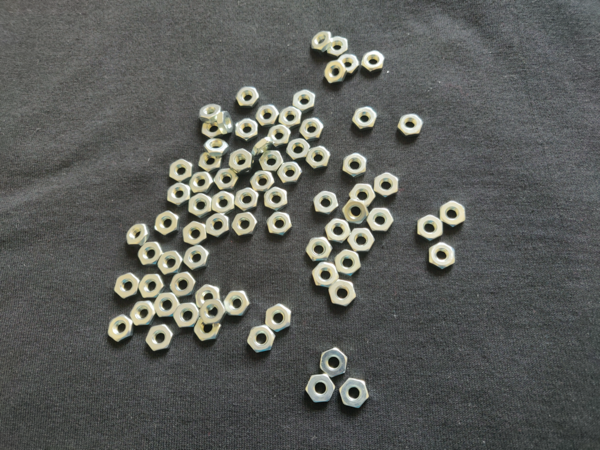nut: (340, 378, 370, 409), (306, 374, 335, 403), (321, 348, 348, 378), (146, 324, 174, 352), (248, 325, 276, 353), (312, 262, 340, 289), (329, 280, 357, 307), (194, 315, 222, 342), (266, 304, 292, 332), (440, 200, 466, 227), (430, 242, 456, 269), (342, 199, 369, 225), (335, 250, 362, 276), (170, 272, 197, 298), (114, 273, 141, 299), (153, 292, 181, 317), (223, 291, 251, 316), (418, 215, 444, 241), (325, 218, 351, 244), (306, 237, 333, 262), (108, 315, 133, 342), (195, 284, 220, 311), (173, 303, 200, 328), (199, 300, 227, 324), (155, 211, 181, 236), (184, 246, 211, 270), (348, 228, 376, 251), (374, 172, 399, 197), (264, 187, 289, 212), (267, 212, 293, 236), (232, 212, 258, 236), (139, 275, 165, 299), (130, 301, 156, 325), (349, 184, 376, 207), (343, 153, 367, 178), (306, 145, 331, 169), (314, 191, 339, 215), (158, 251, 183, 275), (138, 242, 163, 266), (277, 161, 303, 184), (168, 182, 191, 208), (398, 114, 425, 136), (367, 209, 394, 231), (229, 149, 253, 173), (235, 188, 259, 212), (211, 191, 235, 215), (206, 214, 230, 238), (183, 222, 207, 246), (293, 89, 316, 114), (189, 193, 212, 218), (126, 224, 151, 247), (214, 168, 240, 190), (300, 118, 324, 141), (170, 159, 193, 183), (352, 107, 377, 129), (190, 171, 213, 194), (362, 50, 386, 72), (256, 105, 280, 127), (268, 125, 292, 147), (236, 118, 258, 142), (286, 138, 310, 160), (250, 171, 275, 192), (325, 60, 347, 83), (279, 107, 303, 128), (235, 87, 259, 108), (259, 151, 284, 171), (199, 153, 223, 173), (204, 138, 229, 157), (327, 36, 349, 57), (312, 30, 332, 53), (199, 104, 222, 124), (338, 54, 359, 74), (252, 137, 273, 157), (202, 121, 223, 139), (218, 111, 233, 135)
